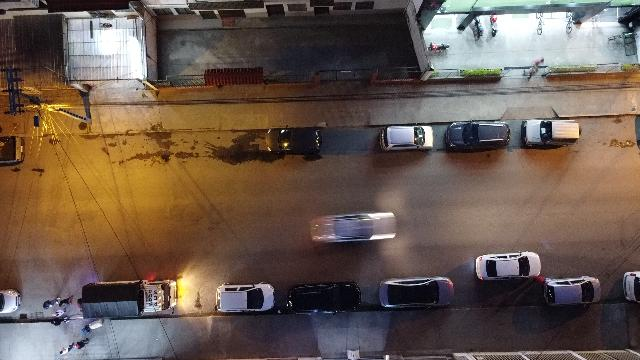Vehiculo: (286, 281, 361, 314), (380, 276, 454, 308), (446, 120, 510, 152), (539, 275, 601, 306), (475, 252, 541, 280), (215, 284, 275, 312), (521, 118, 581, 145), (265, 128, 322, 154), (380, 126, 434, 150), (0, 136, 25, 166), (0, 289, 21, 314), (624, 271, 640, 302)
